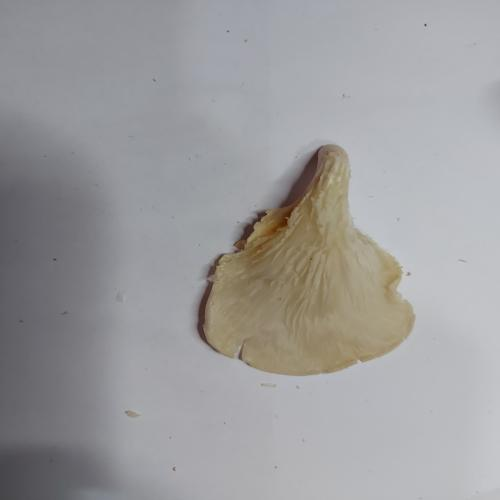Oyster Mushroom: (201, 143, 416, 376)
